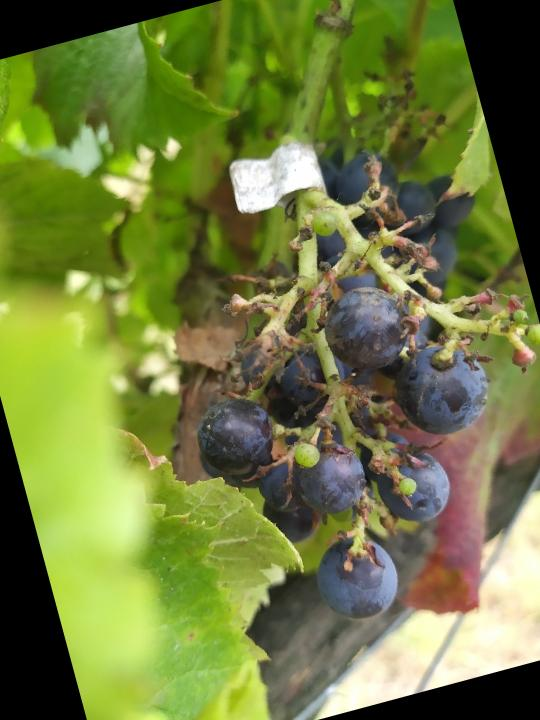grape: (132, 125, 540, 657)
